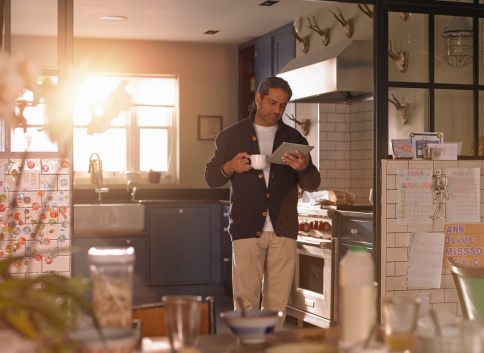em pe: (196, 67, 314, 329)
